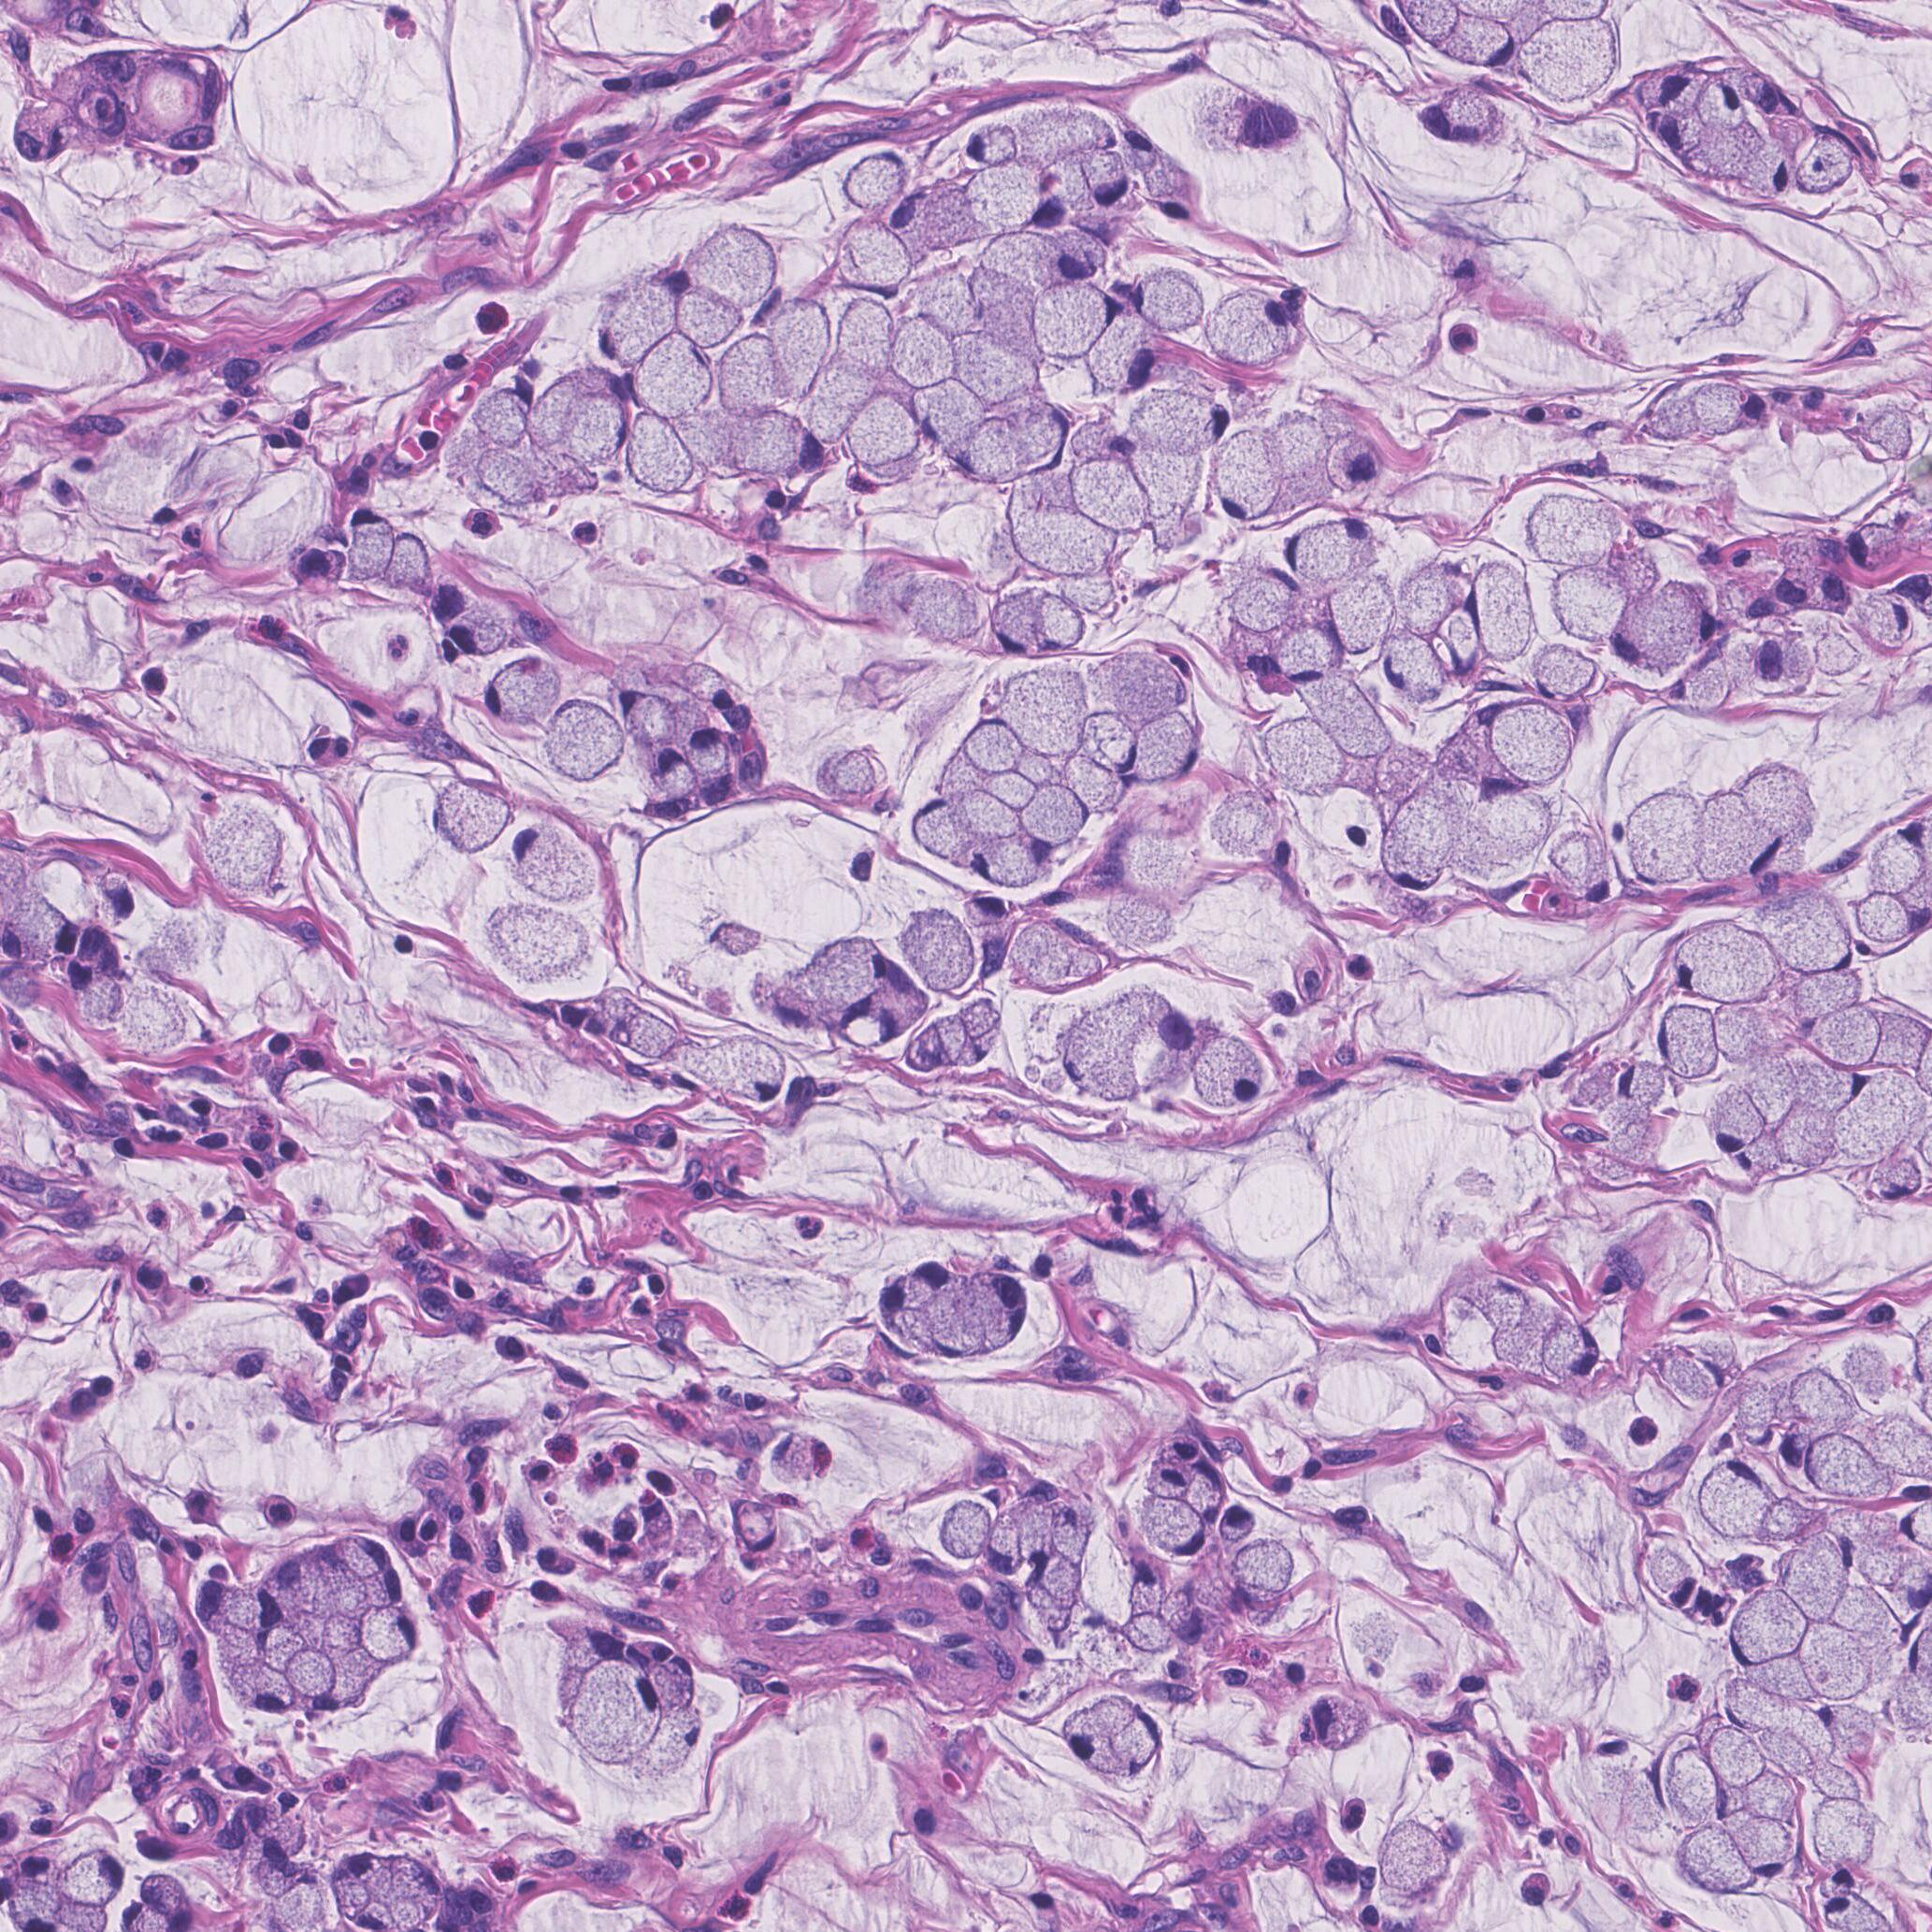ring_cell_cancer: (763, 916, 895, 1042), (545, 1652, 662, 1773), (1060, 971, 1152, 1120), (1603, 566, 1709, 676), (676, 1019, 789, 1122), (1601, 787, 1706, 897), (1361, 782, 1453, 906), (513, 814, 610, 922), (1658, 920, 1780, 1005), (1753, 888, 1859, 984), (584, 272, 690, 364), (1207, 278, 1300, 377), (1693, 782, 1780, 888), (630, 327, 722, 423), (1681, 1453, 1778, 1541), (1461, 552, 1537, 662), (1051, 1700, 1152, 1782), (874, 1251, 959, 1346), (1638, 1739, 1721, 1835), (1286, 511, 1391, 587), (1208, 428, 1286, 527), (945, 1272, 1035, 1357), (1615, 1543, 1706, 1626), (729, 407, 821, 488), (127, 55, 214, 138), (1713, 1592, 1810, 1665), (1030, 285, 1123, 359), (472, 656, 568, 729), (1798, 1431, 1888, 1507), (540, 697, 621, 780), (1644, 1007, 1725, 1090), (1127, 391, 1233, 455), (908, 373, 993, 453), (947, 706, 1033, 784), (885, 179, 978, 249), (835, 219, 911, 306), (1185, 1035, 1269, 1111), (1428, 80, 1511, 156), (428, 780, 511, 856), (1127, 1499, 1214, 1569), (550, 398, 630, 474), (1138, 709, 1205, 796), (1849, 591, 1927, 665), (1527, 1313, 1598, 1394), (1014, 386, 1070, 487), (1723, 1810, 1799, 1884), (1090, 308, 1150, 402), (1711, 1672, 1792, 1741), (630, 1649, 713, 1716), (1378, 635, 1454, 708), (294, 1642, 364, 1720), (1221, 563, 1300, 632), (1695, 1090, 1776, 1155), (1127, 272, 1208, 338), (60, 954, 129, 1030), (1017, 787, 1095, 855), (1267, 621, 1346, 686), (1514, 644, 1598, 706), (612, 679, 685, 750), (1858, 823, 1928, 895), (437, 602, 518, 663), (955, 419, 1024, 492), (1224, 1532, 1299, 1599), (1810, 1700, 1881, 1769), (336, 497, 395, 580), (60, 1838, 120, 1918), (1033, 586, 1102, 655), (354, 1610, 421, 1681), (1313, 437, 1384, 504), (1730, 138, 1801, 205), (1782, 1056, 1868, 1111), (1437, 11, 1514, 71), (1072, 706, 1141, 773), (632, 1713, 706, 1775), (987, 586, 1046, 663), (472, 377, 534, 449), (962, 840, 1049, 892), (373, 533, 441, 598), (842, 147, 908, 214), (1306, 1688, 1371, 1753), (908, 798, 971, 863), (1460, 1269, 1527, 1330), (255, 1553, 322, 1615), (605, 1001, 678, 1058), (386, 1852, 451, 1914), (1113, 1711, 1171, 1780), (322, 1530, 400, 1582), (1042, 226, 1111, 283), (1840, 518, 1907, 575), (633, 743, 702, 798), (1729, 1380, 1780, 1451), (221, 1580, 283, 1637), (761, 1431, 824, 1486), (954, 122, 1019, 175), (1610, 1060, 1677, 1111), (1729, 1127, 1787, 1185), (1120, 1557, 1168, 1628), (1697, 74, 1750, 136), (1663, 1352, 1725, 1405), (982, 1507, 1028, 1578), (727, 1499, 784, 1555), (679, 724, 732, 782), (1203, 1500, 1265, 1550), (241, 1667, 303, 1716), (1764, 564, 1831, 607), (326, 1868, 373, 1925), (954, 892, 1016, 934), (1085, 150, 1129, 209), (1182, 1465, 1228, 1518), (1875, 1159, 1920, 1207), (1146, 1454, 1192, 1499), (350, 1571, 410, 1603), (1707, 1778, 1746, 1822)
